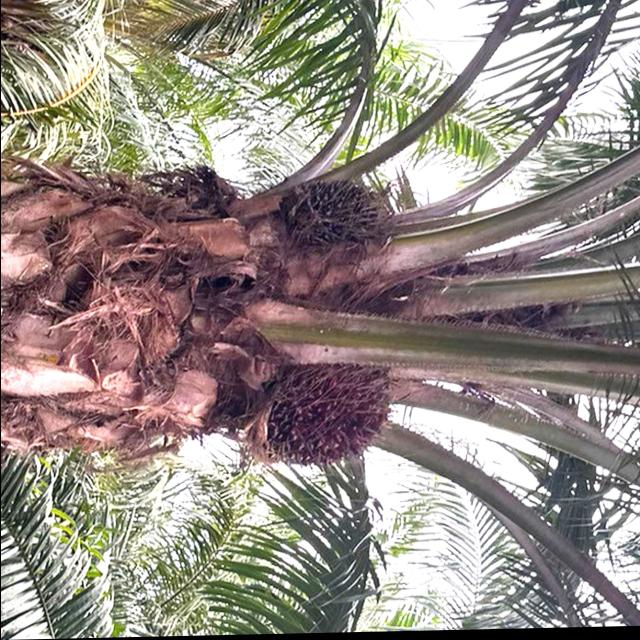ripe: (263, 355, 399, 467), (276, 174, 394, 252)
